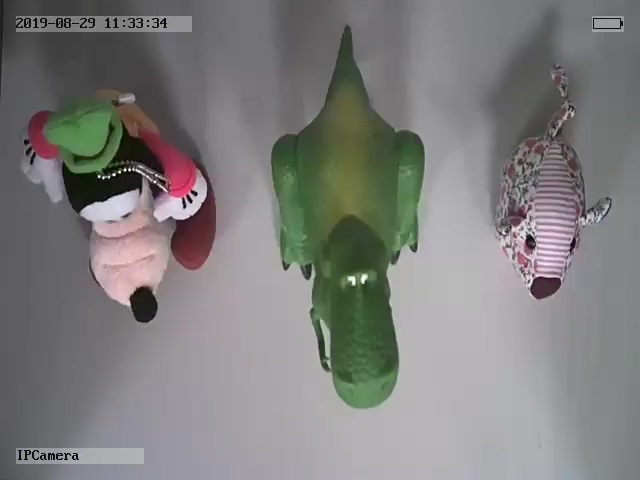goofy: (18, 86, 217, 325)
pig: (494, 63, 610, 301)
rex: (269, 25, 426, 412)
